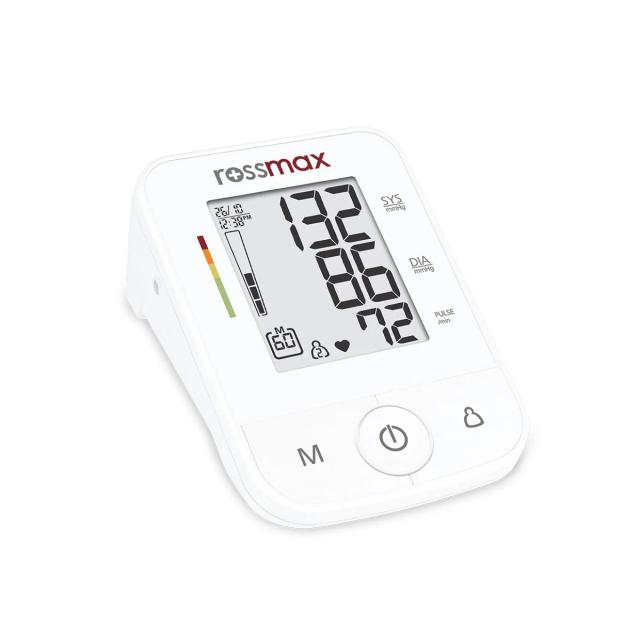dia: (305, 233, 406, 317)
pul: (349, 293, 428, 355)
ssd: (198, 139, 430, 404)
sys: (265, 171, 379, 260)
